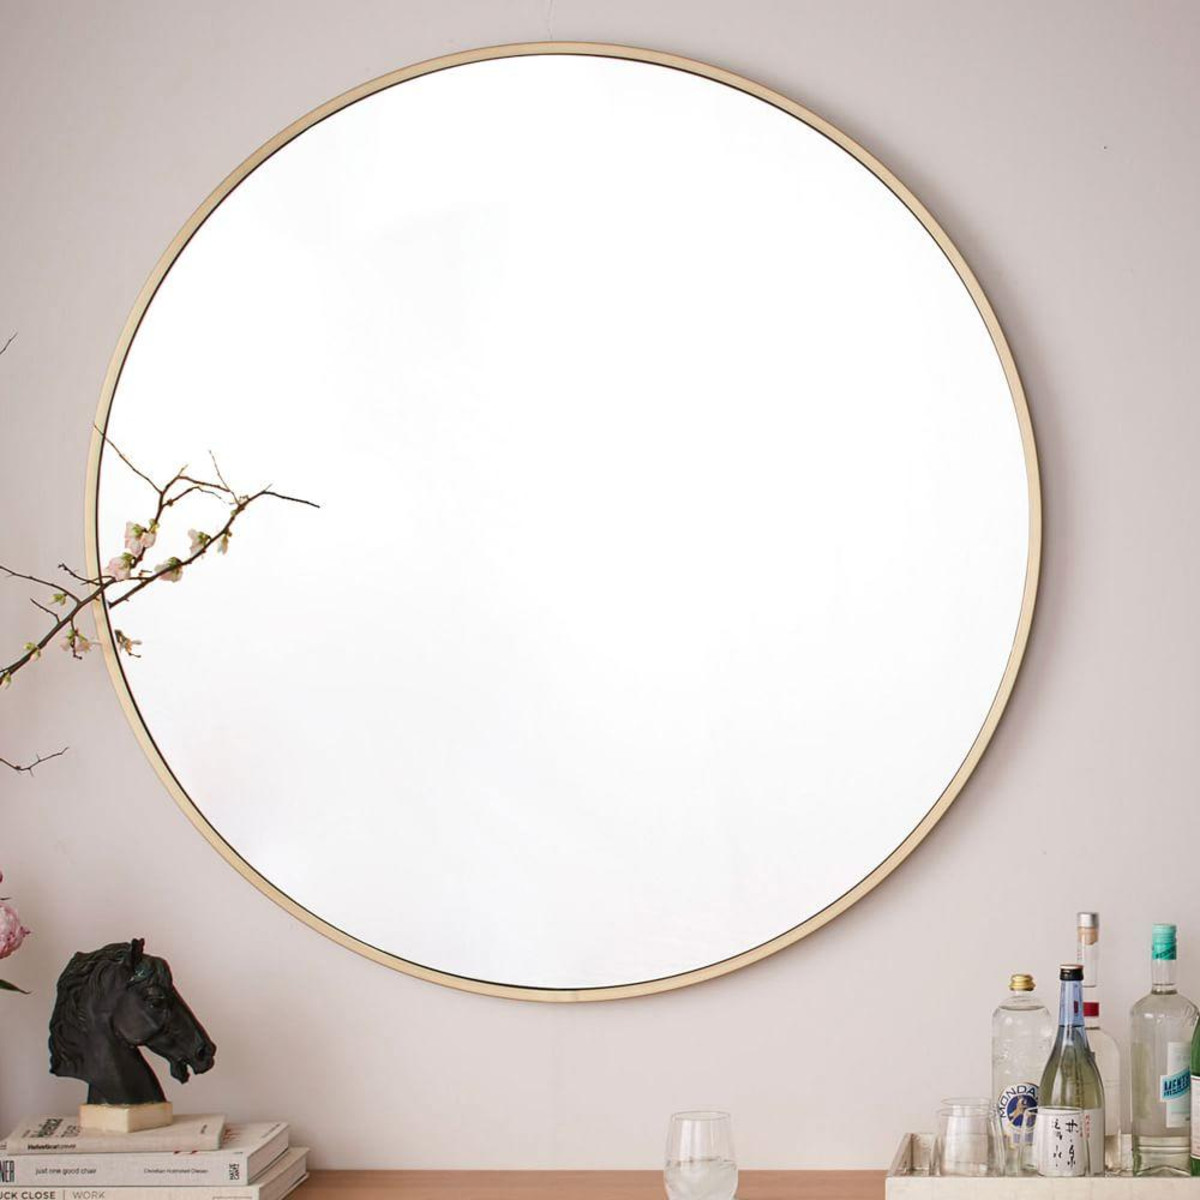Nonrec_Glass: (82, 34, 1049, 1005)
Rec_Glass: (1001, 892, 1120, 1176), (1127, 908, 1199, 1179)
